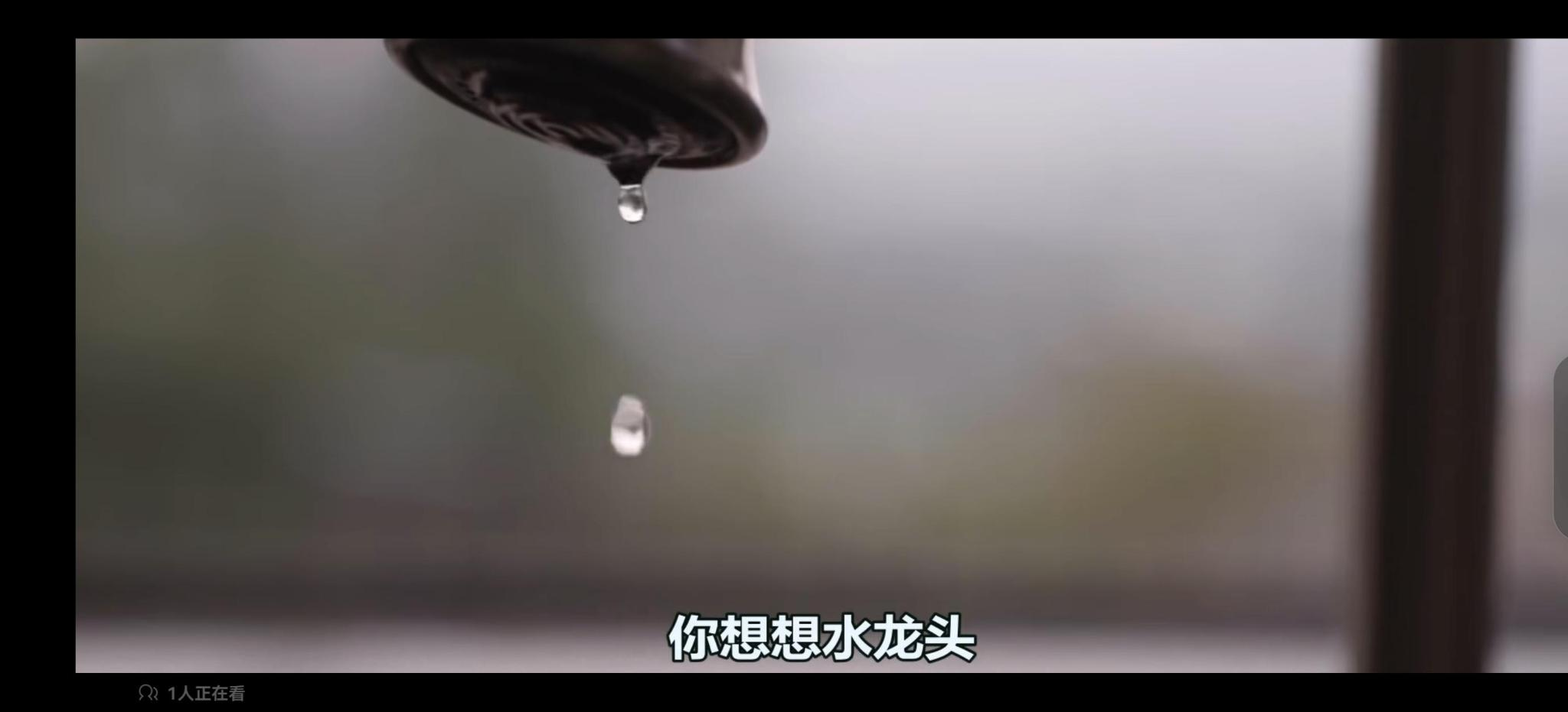water drop: (606, 158, 654, 224), (608, 395, 654, 459)
